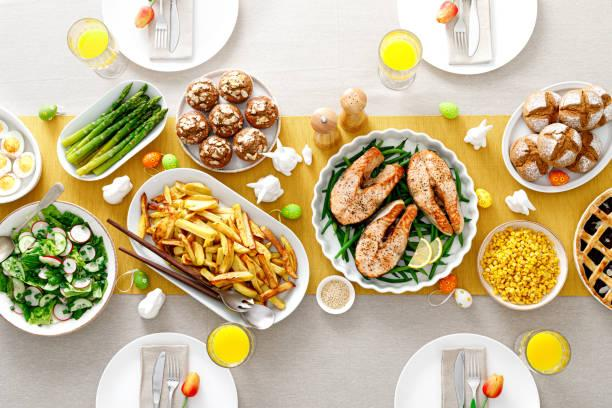Braised Crucian Carp: (126, 167, 310, 331), (310, 128, 478, 293), (0, 203, 115, 336), (501, 81, 610, 194), (59, 77, 168, 181), (177, 69, 282, 174), (477, 220, 566, 310)
